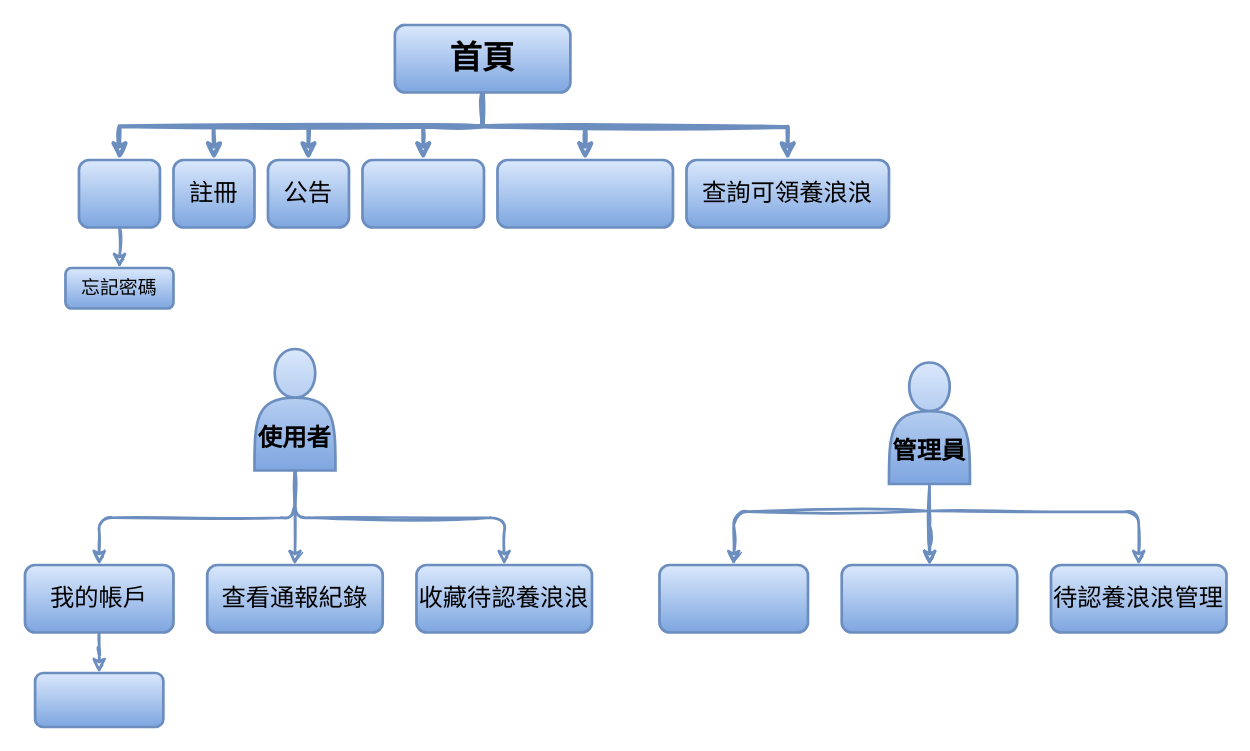
Image size: 1250x751. Some labels were removed from this diagram. Here are the shapes that lost their labels. From the top down, the centre of each, then its label:
(x=119, y=193): 登入
(x=422, y=193): 聯繫我們
(x=584, y=193): 回報走失浪浪
(x=733, y=598): 用戶管理
(x=929, y=598): 公告管理
(x=98, y=699): 基本資料修改
